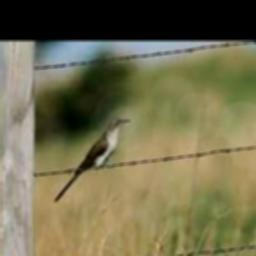Cuckoo: (54, 117, 132, 202)
